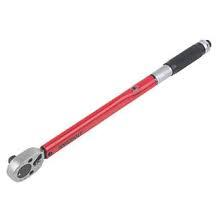wrench: (5, 38, 212, 182)
